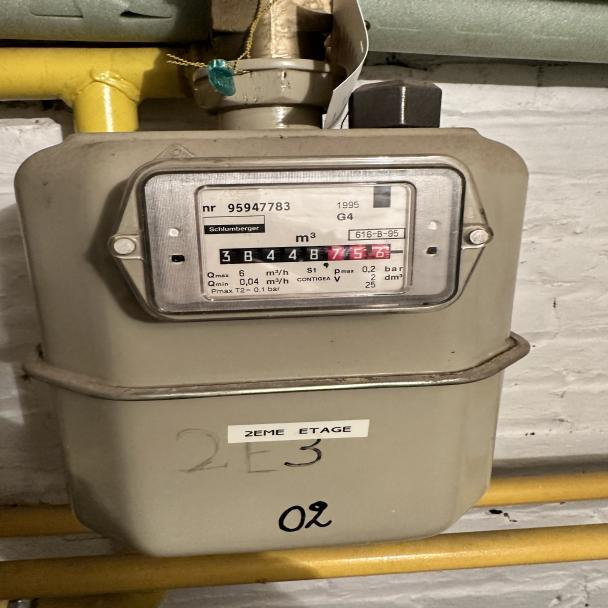3: (216, 248, 236, 266)
4: (283, 247, 306, 266), (264, 247, 278, 264)
5: (349, 244, 369, 261)
6: (372, 243, 393, 261)
7: (329, 244, 348, 262)
8: (236, 247, 262, 266), (307, 247, 326, 262)
cm: (325, 243, 394, 263)
counter: (211, 246, 328, 264)
